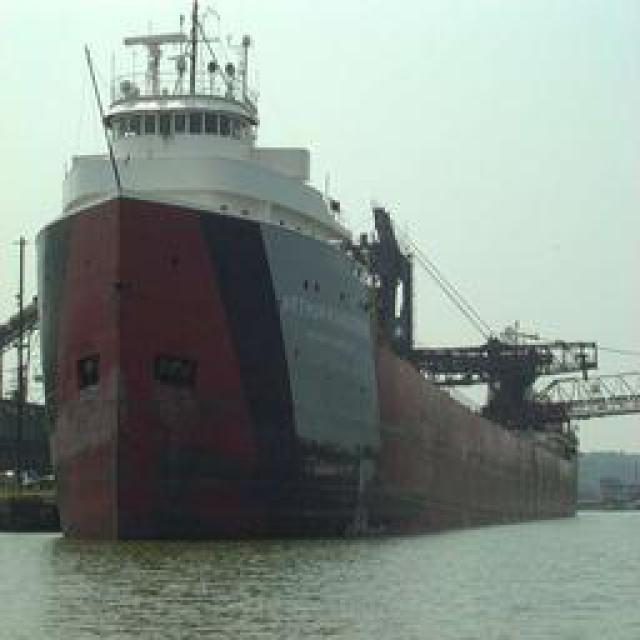Ship: (39, 9, 559, 552)
